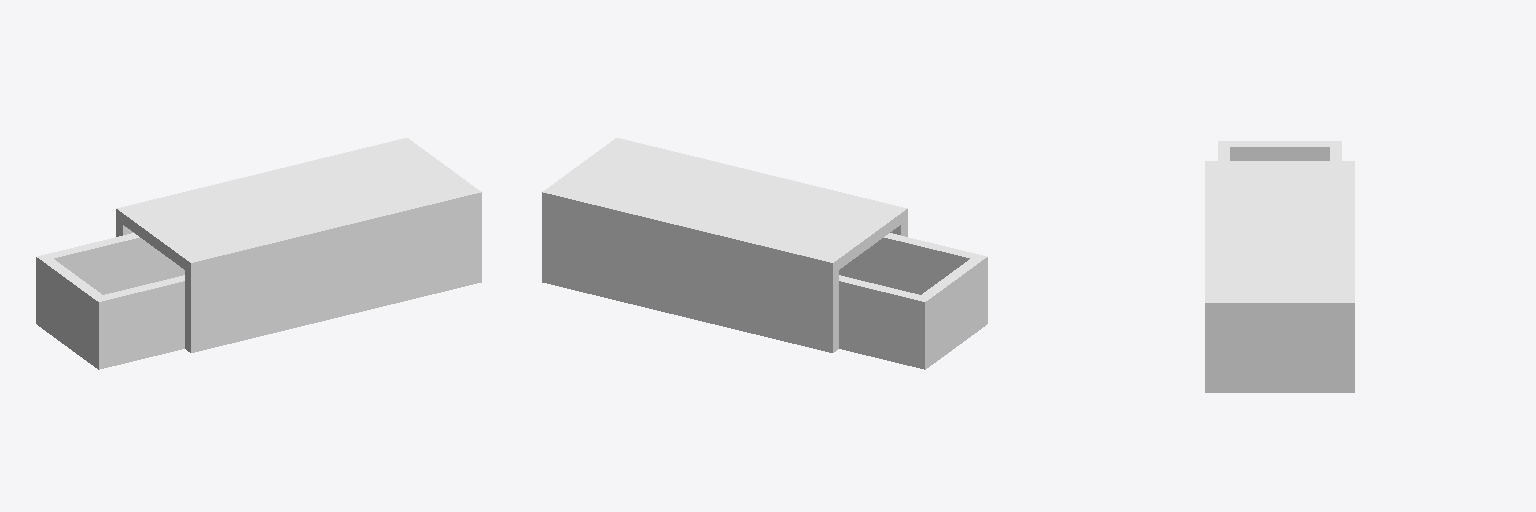
File: 5mmbxE.obj
3 renders of one model, left to right at view 1: azimuth 30°, elevation 25°; view 2: azimuth 150°, elevation 25°; view 3: azimuth 270°, elevation 25°, orthographic.
Visible parts, largest first — view 1: object 1; view 2: object 1; view 3: object 1.
Boxes of the visible parts, x1=… form: object 1: x1=36, y1=138, x2=481, y2=369; object 1: x1=542, y1=138, x2=987, y2=369; object 1: x1=1205, y1=141, x2=1354, y2=392.
Bounding box in the file's own units: 3.5 × 0.8 × 1.2.